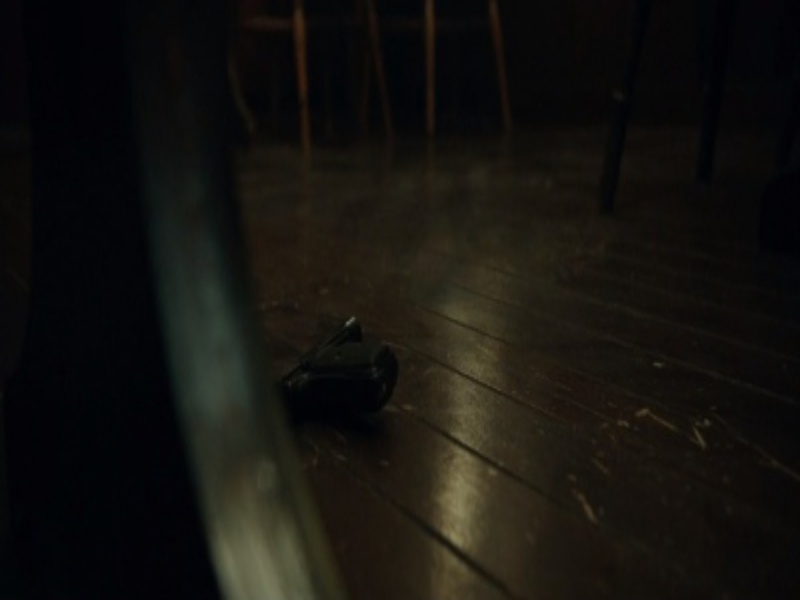weapon: (286, 309, 395, 427)
